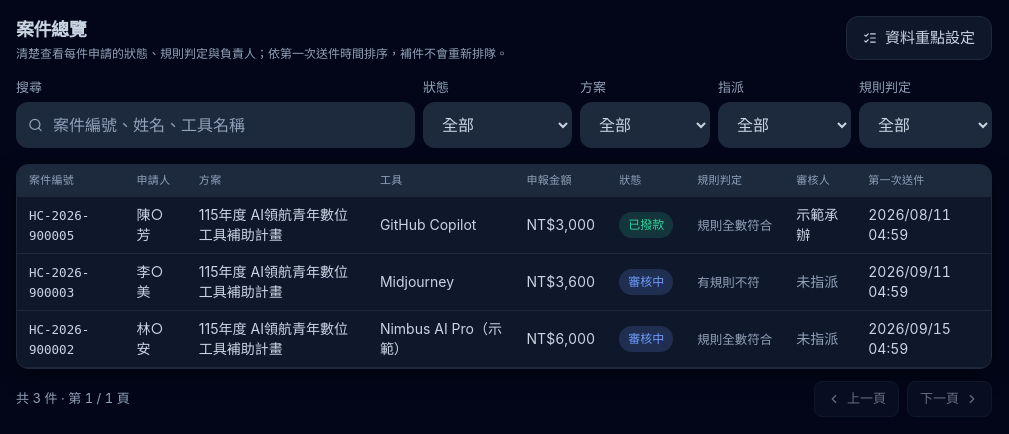
CasesQueuePage › 規則判定篩選會縮小清單
The width and height of the screenshot is (1009, 434).
Check: the text "HC-2026-900002" is shown, box [29,322,89,357]
Select "有不符" in the dropdown labelled "規則判定": (926, 124) [859,102,992,148]
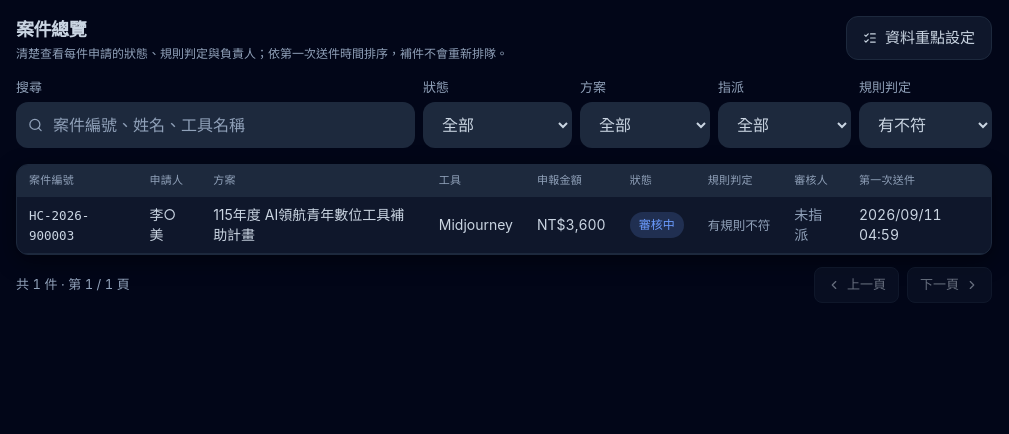
Check: the text "HC-2026-900003" is shown, box [29,208,89,243]
Check: the text "HC-2026-900002" is gone
